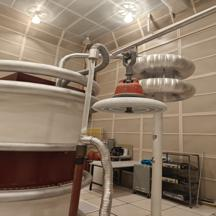insulator: (86, 75, 172, 121)
